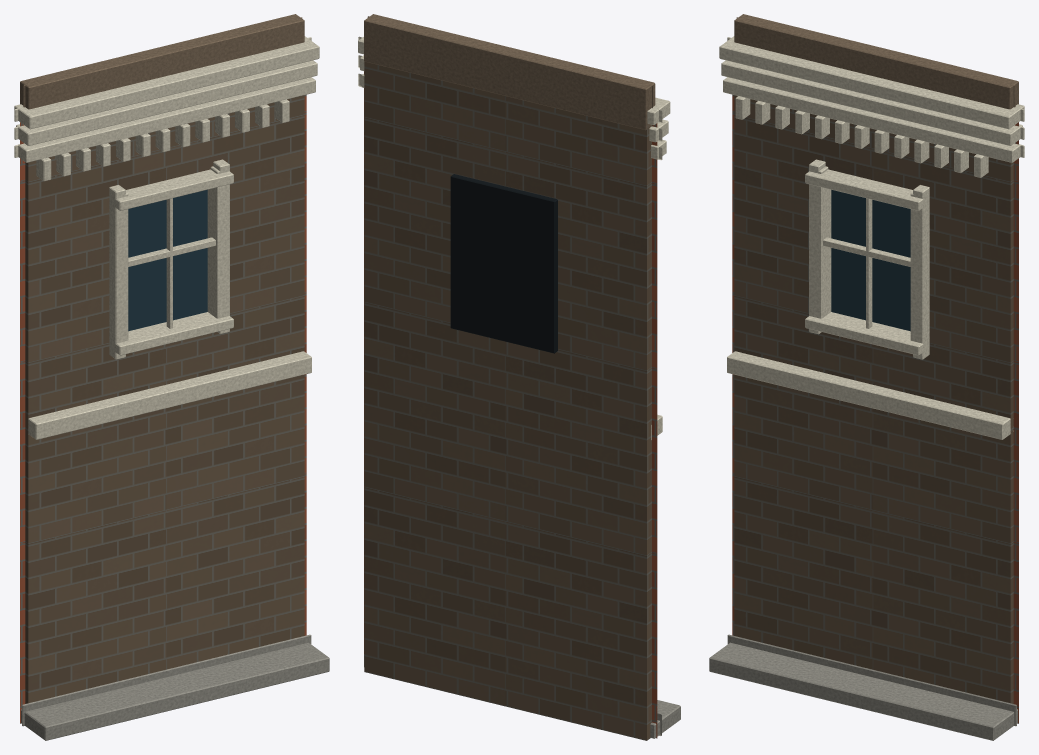
The model's file is WHSE13_lod1.glb.
3 renders of one model, left to right at view 1: azimuth 30°, elevation 25°; view 2: azimuth 150°, elevation 25°; view 3: azimuth 330°, elevation 25°, orthographic. The views are drawn at different scales.
Visible parts, largest first — view 1: WHSE13_FRONT_LOD1; view 2: WHSE13_FRONT_LOD1; view 3: WHSE13_FRONT_LOD1.
Boxes of the visible parts, box(x1,y1,x2,y2) form: WHSE13_FRONT_LOD1: box(14, 14, 329, 740); WHSE13_FRONT_LOD1: box(358, 14, 680, 740); WHSE13_FRONT_LOD1: box(709, 14, 1024, 740).
Size of the model in its own units: 3.44 by 7.05 by 0.65.
8 materials, 6 textured.
